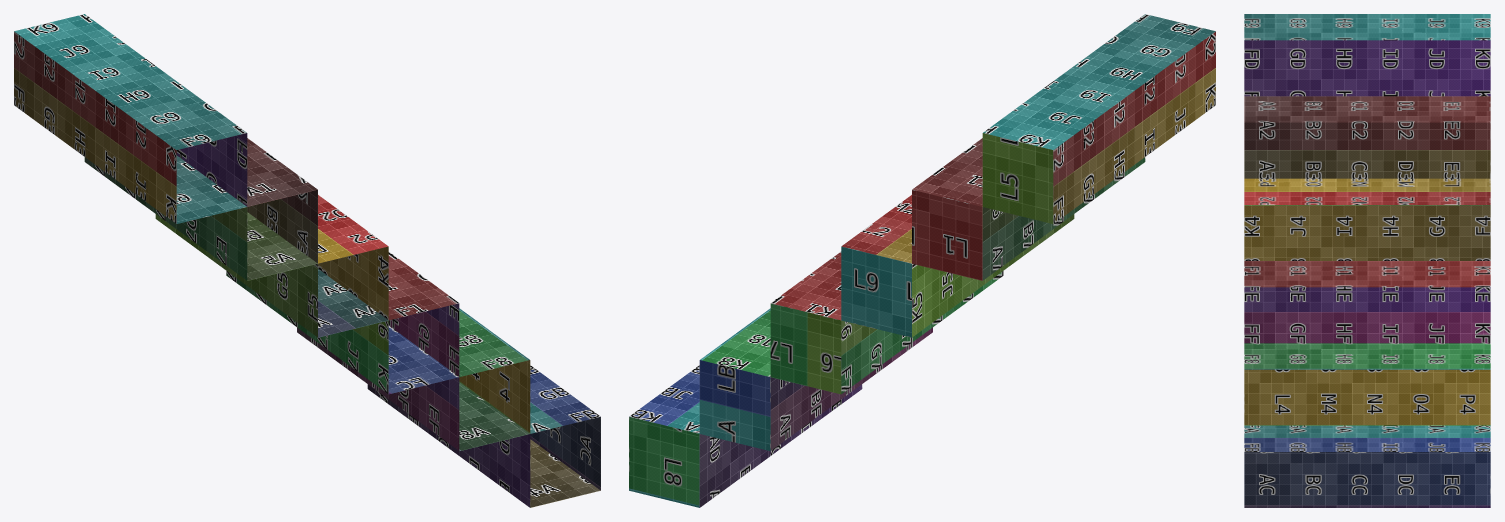
Rendered from Stairs.fbx.
3 renders of one model, left to right at view 1: azimuth 30°, elevation 25°; view 2: azimuth 150°, elevation 25°; view 3: azimuth 270°, elevation 25°, orthographic. The views are drawn at different scales.
Parts seen in each view (by area): view 1: Stairs; view 2: Stairs; view 3: Stairs.
Boxes of the visible parts, box(x1,y1,x2,y2) form: Stairs: box(14, 14, 600, 507); Stairs: box(629, 14, 1215, 507); Stairs: box(1244, 14, 1490, 507).
Bounding box in the file's own units: 3.52 × 3.52 × 2.34.
